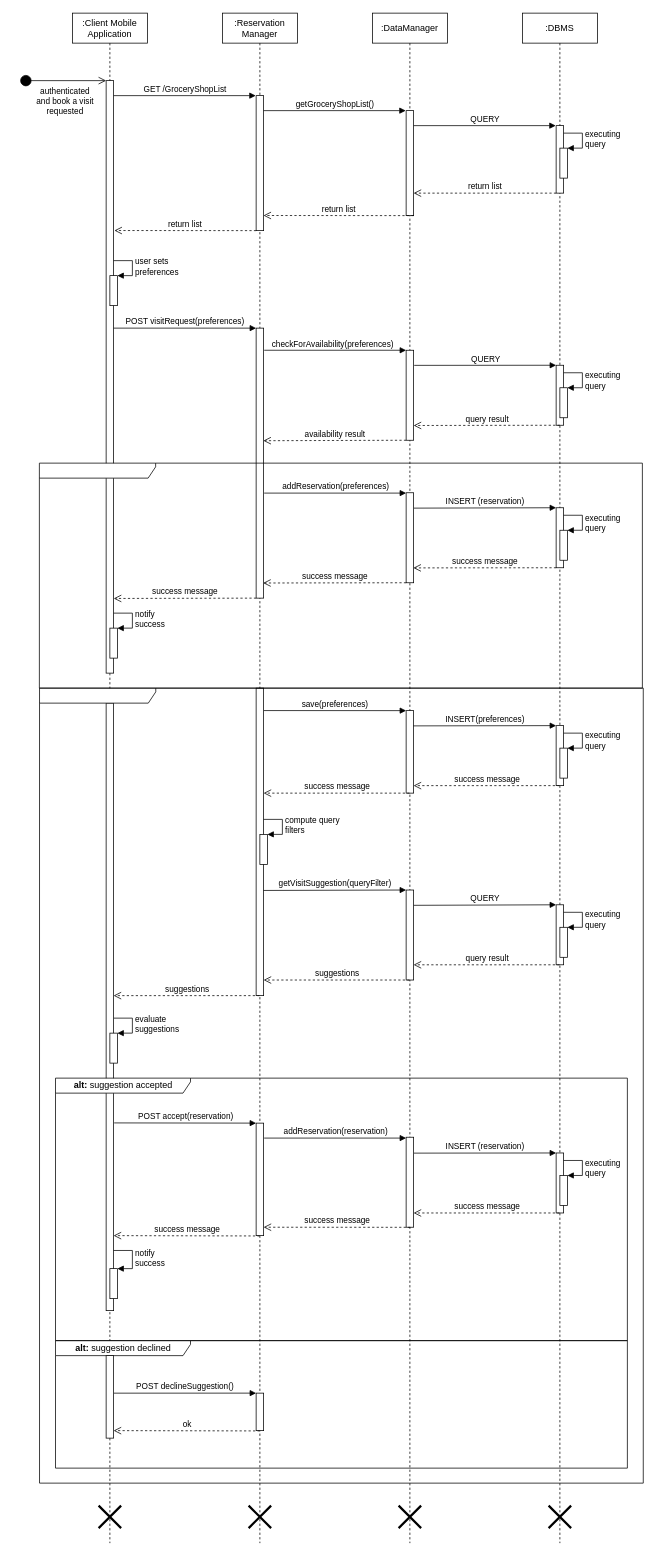
The diagram is 657 pixels wide and 1556 high, and some of its shapes have lost their labels. The centre of each missing label's shape, as x and y in pixels:
"alt: available visit" goes at point 340,575.
"alt: not available visit" goes at point 341,1085.
